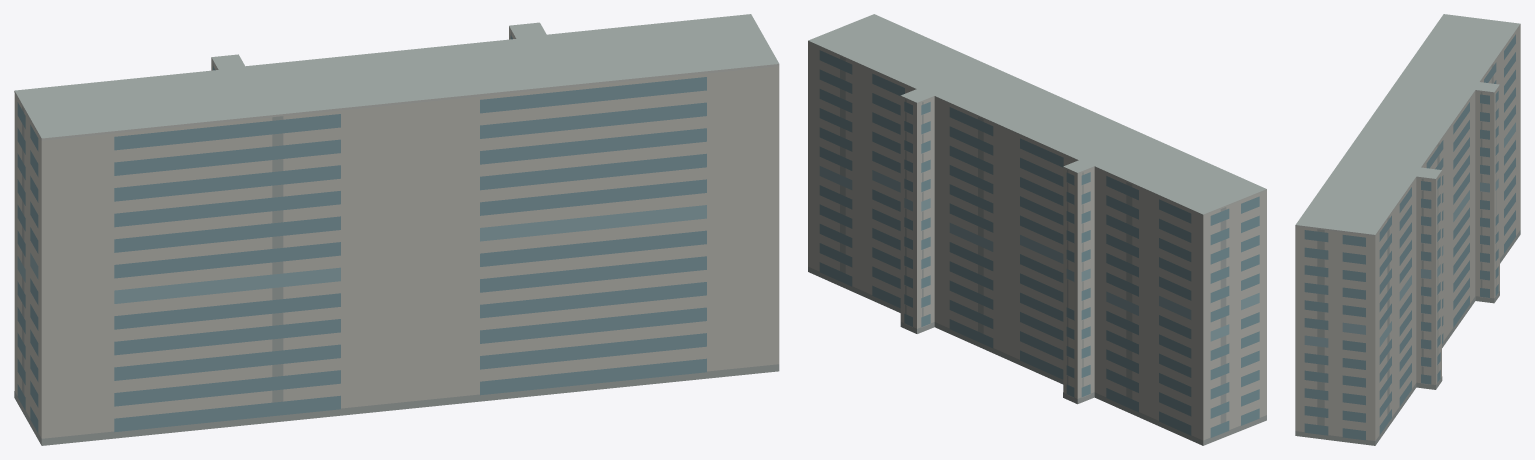
The model's file is residential-34bcb57e-2393-4b8f-ab28-d5559b28c557.glb.
3 renders of one model, left to right at view 1: azimuth 30°, elevation 25°; view 2: azimuth 150°, elevation 25°; view 3: azimuth 270°, elevation 25°, orthographic. The views are drawn at different scales.
Visible parts, largest first — view 1: residential-34bcb57e-2393-4b8f-ab28-d5559b28c557.tmp; view 2: residential-34bcb57e-2393-4b8f-ab28-d5559b28c557.tmp; view 3: residential-34bcb57e-2393-4b8f-ab28-d5559b28c557.tmp.
Part boxes in pixels (x1,y1,x2,y2): residential-34bcb57e-2393-4b8f-ab28-d5559b28c557.tmp: [14, 14, 779, 445]; residential-34bcb57e-2393-4b8f-ab28-d5559b28c557.tmp: [808, 14, 1266, 445]; residential-34bcb57e-2393-4b8f-ab28-d5559b28c557.tmp: [1295, 14, 1520, 445].
Size of the model in its own units: 82.2 by 36.6 by 35.39.
